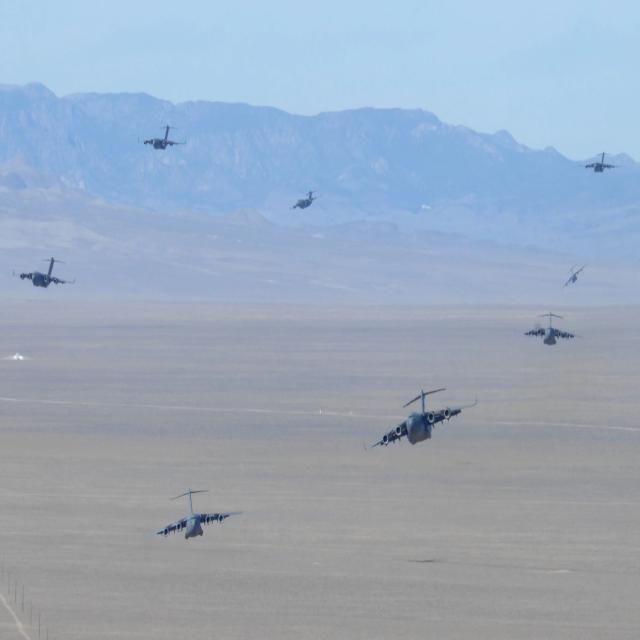MIL_Plane: (362, 388, 478, 452), (141, 488, 243, 540), (510, 312, 580, 346), (15, 256, 74, 288), (579, 152, 622, 172), (560, 262, 588, 291), (251, 190, 284, 211), (157, 124, 167, 150)
